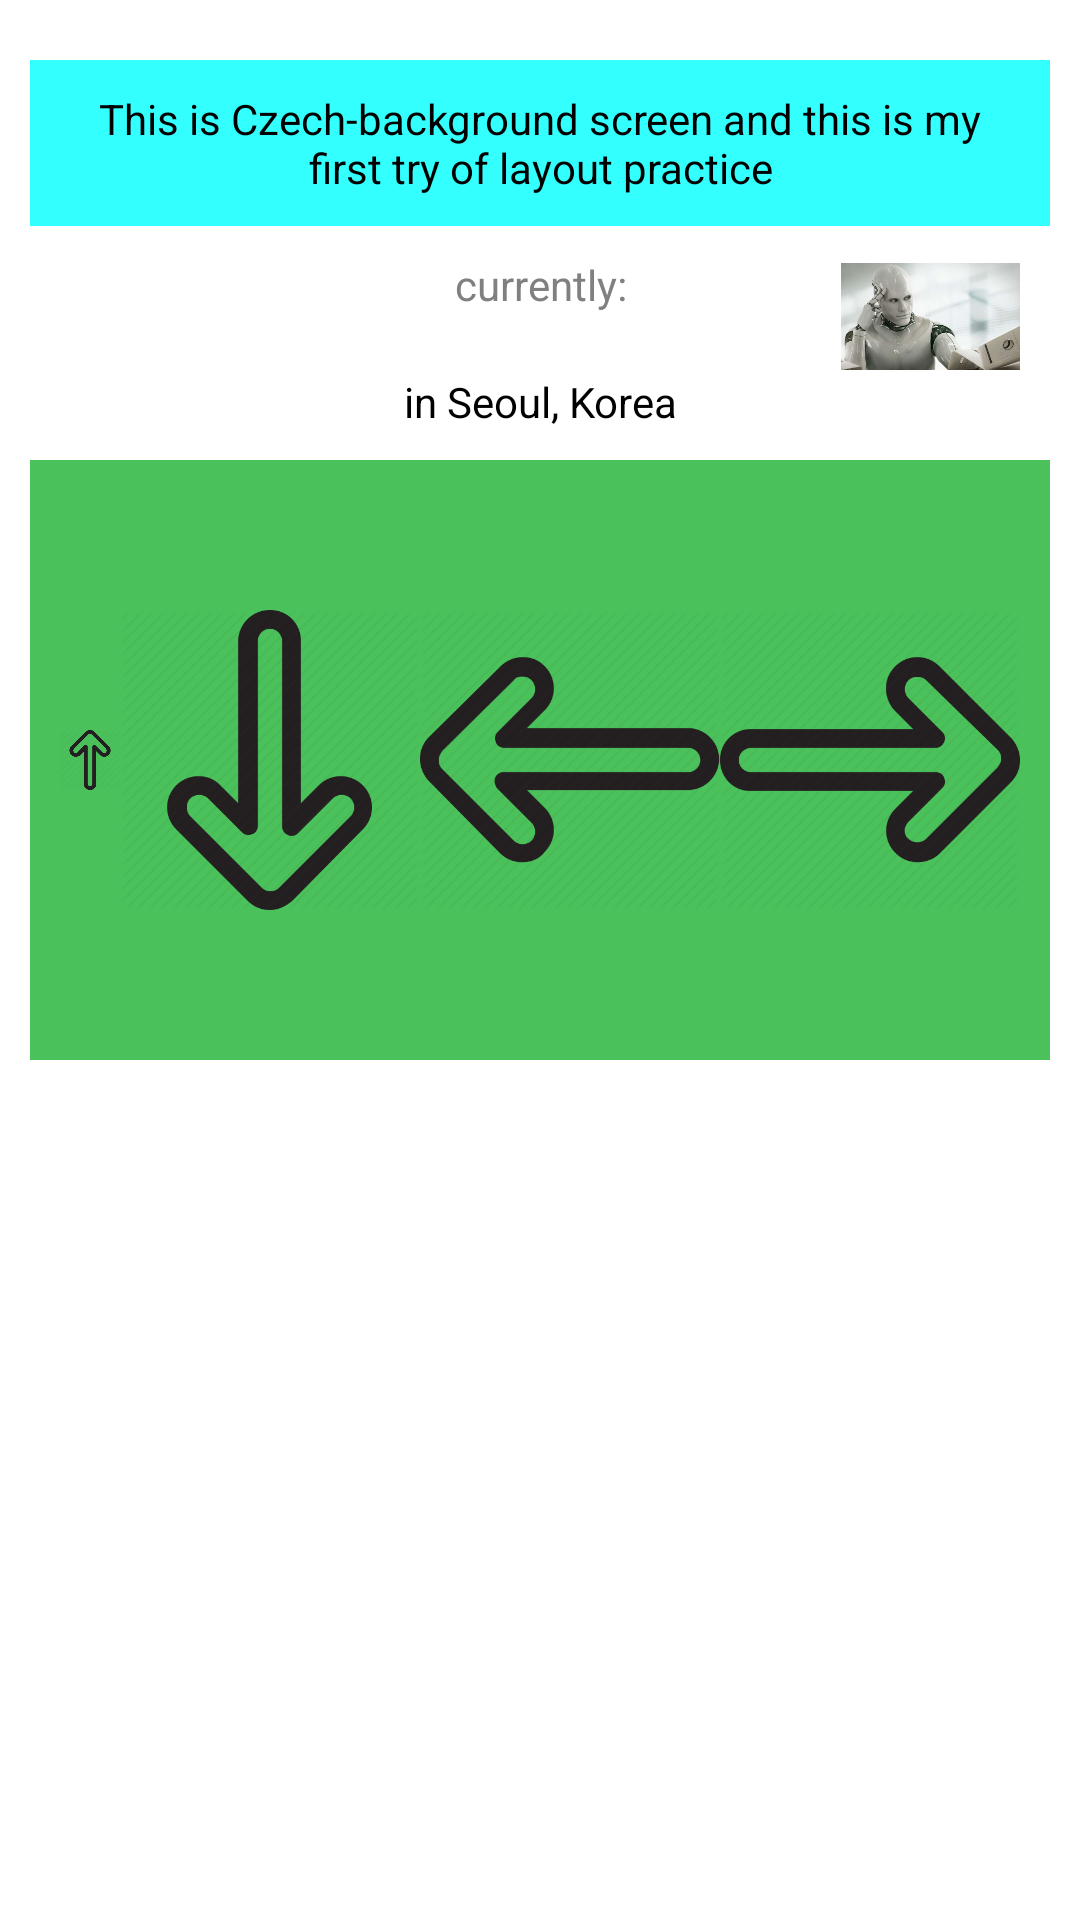

Locate icon controls on the screen. Image size 1080 x 1920, boxes as {"x1": x1, "y1": y1, "x2": x2, "y2": y2}.
down: {"x1": 167, "y1": 610, "x2": 372, "y2": 910}
left: {"x1": 420, "y1": 657, "x2": 719, "y2": 863}
right: {"x1": 720, "y1": 657, "x2": 1020, "y2": 863}
